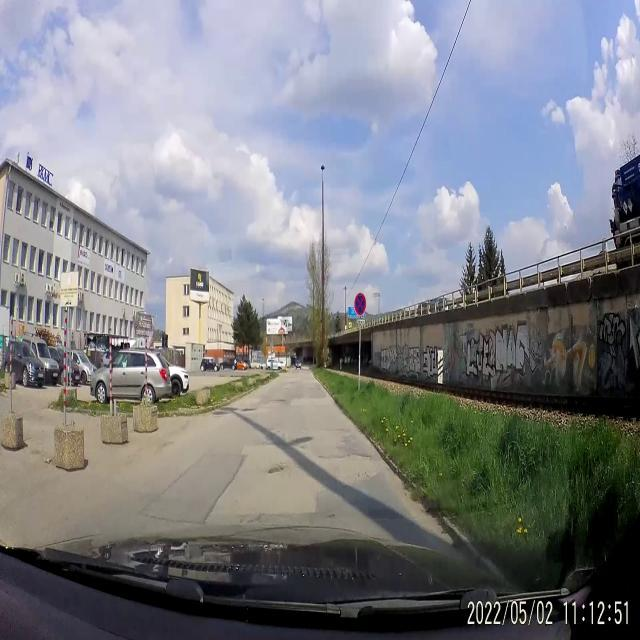Pothole: (264, 453, 290, 482), (272, 396, 288, 404)
